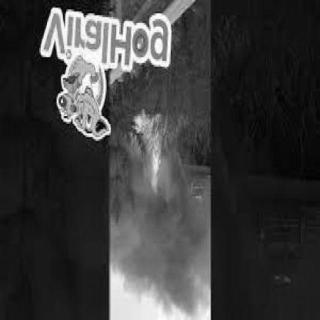Fire: (127, 108, 185, 188)
Smoke: (126, 198, 202, 298)
